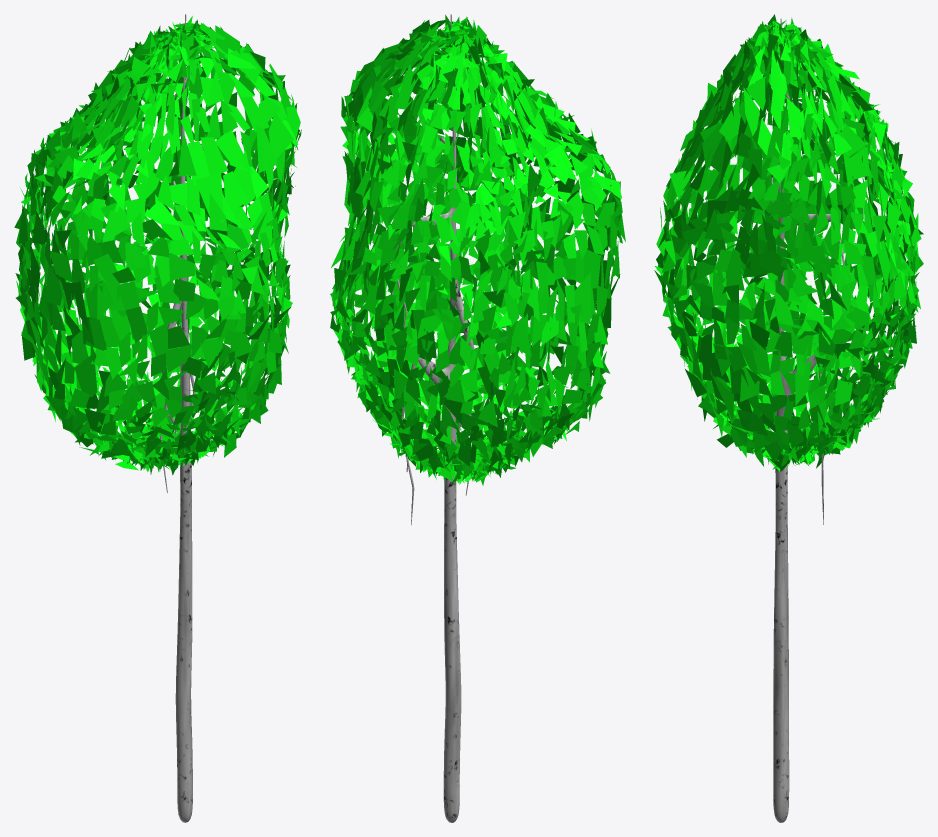
File: Leaves41.002.fbx
3 views of the same model, side by side, from view 1: azimuth 30°, elevation 25°; view 2: azimuth 150°, elevation 25°; view 3: azimuth 270°, elevation 25° (orthographic).
Visible parts, largest first — view 1: Leaves41.002; view 2: Leaves41.002; view 3: Leaves41.002.
Part boxes in pixels (x1,y1,x2,y2): Leaves41.002: (14,14,301,822); Leaves41.002: (330,14,625,822); Leaves41.002: (654,14,923,822).
Bounding box in the file's own units: 873 × 2574 × 783.
2 materials, 1 textured.
